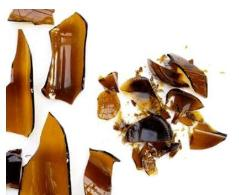glass: (1, 8, 229, 194)
